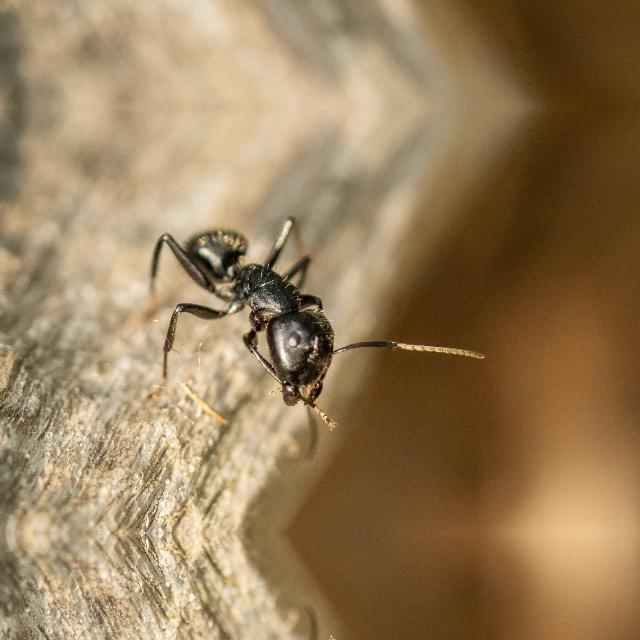Camponotus: (143, 197, 380, 415)
